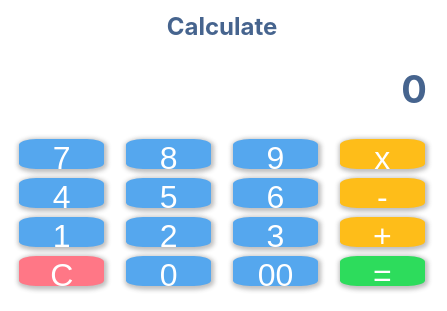
Scenario: When an operation with negative result is typed › shows ERROR message in the display
Click the button "2" at [169, 232], box [126,217,211,247]
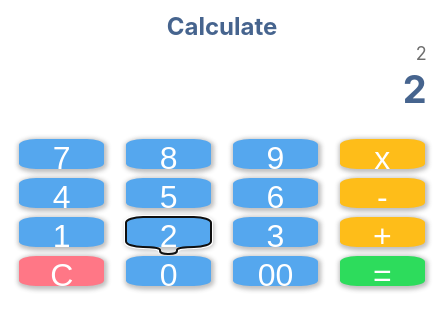
Click the button "-" at [382, 193], box [340,178,425,208]
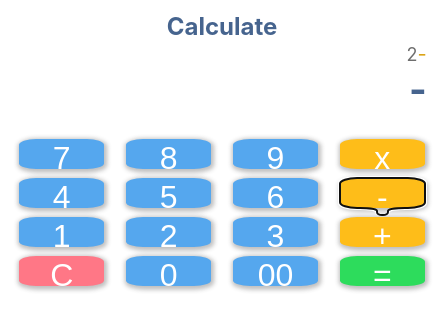
Click the button "5" at [169, 193], box [126,178,211,208]
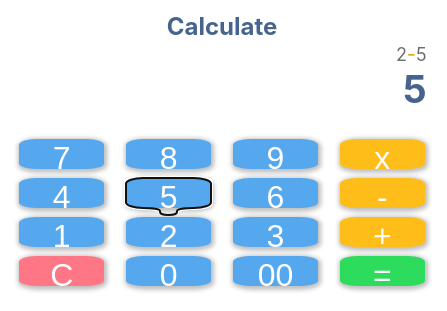
Click the button "=" at [382, 271], box [340,256,425,286]
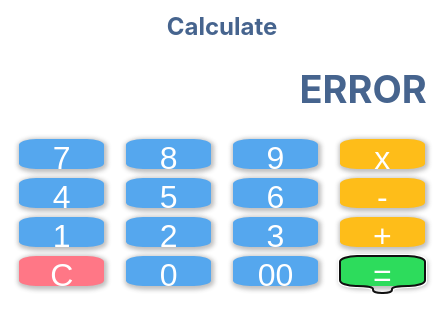
Now the heading "0" reads "ERROR", box [300,66,427,112]
